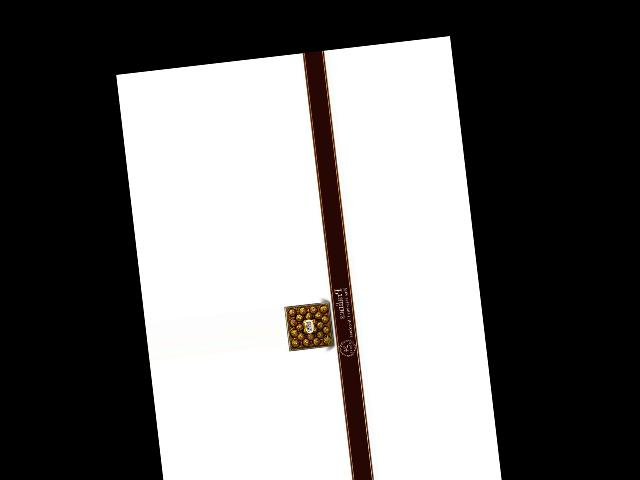chocolate: (281, 299, 337, 354)
